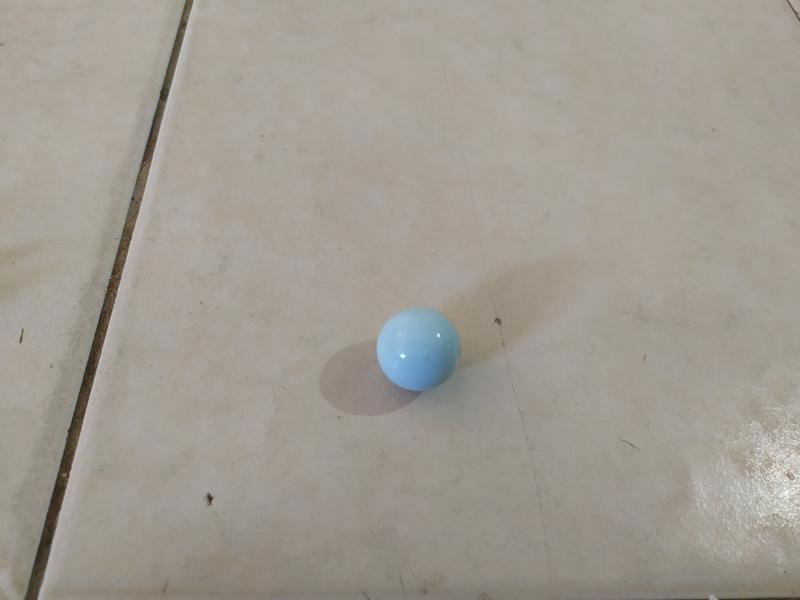Warning: (373, 303, 464, 394)
